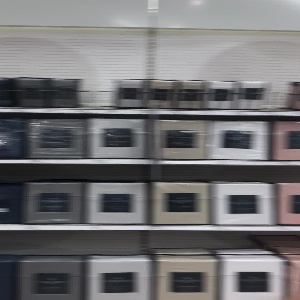void: (78, 42, 115, 108), (265, 51, 293, 110)
